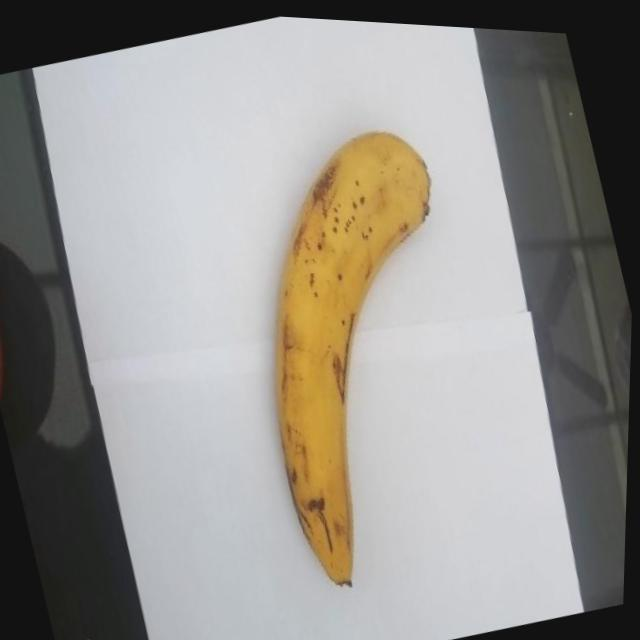Apple: (0, 245, 22, 398)
Banana: (204, 106, 531, 598)
